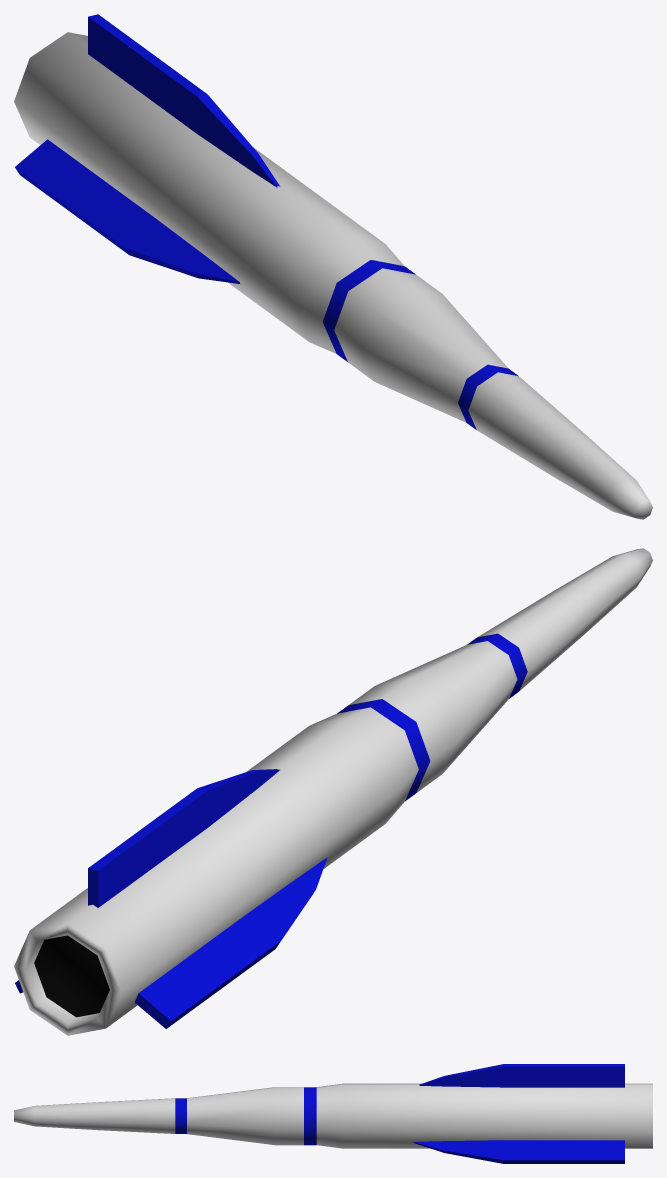
Rendered from missile.fbx.
3 views of the same model, one above another, from view 1: azimuth 30°, elevation 25°; view 2: azimuth 150°, elevation 25°; view 3: azimuth 270°, elevation 25° (orthographic). The views are drawn at different scales.
Parts seen in each view (by area): view 1: Cylinder, Cube; view 2: Cylinder, Cube; view 3: Cylinder, Cube.
Part boxes in pixels (<box>): Cylinder: <box>14,32,652,519</box>; Cube: <box>15,14,280,283</box>; Cylinder: <box>14,548,652,1035</box>; Cube: <box>15,769,327,1028</box>; Cylinder: <box>14,1083,652,1148</box>; Cube: <box>413,1064,624,1163</box>.
Size of the model in its own units: 0.1336 by 0.1205 by 0.8509.
